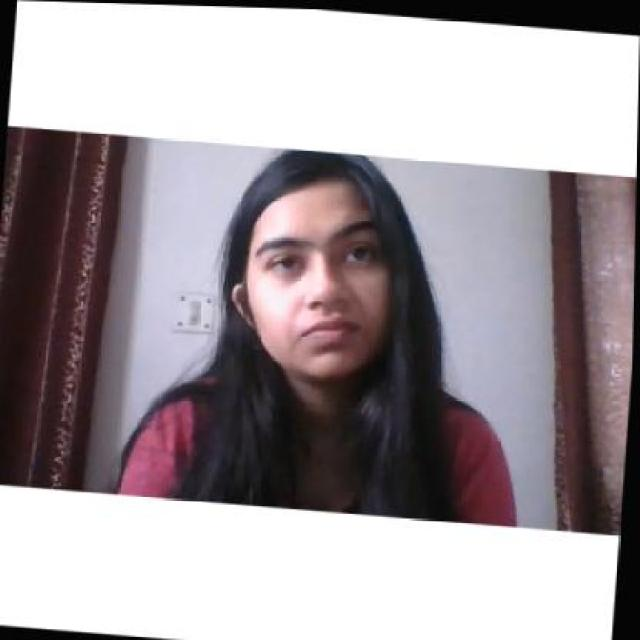attentif: (226, 142, 402, 384)
